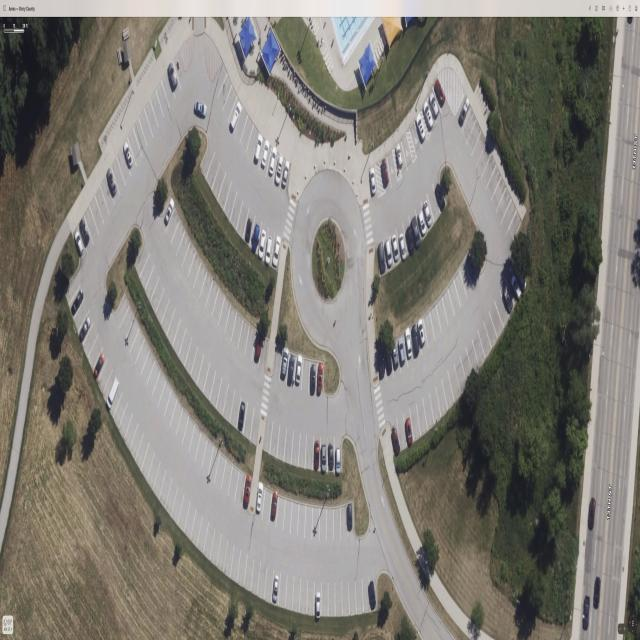Empty: (144, 99, 159, 138), (111, 158, 126, 195), (150, 89, 164, 128), (139, 108, 153, 147), (133, 118, 147, 157), (156, 80, 170, 118), (223, 85, 237, 122), (409, 122, 422, 158), (208, 446, 220, 484), (214, 453, 226, 490), (227, 465, 239, 502), (202, 440, 214, 477), (401, 134, 413, 170), (221, 459, 233, 495), (243, 402, 254, 441), (235, 470, 246, 508), (387, 151, 398, 188), (230, 391, 241, 428), (283, 428, 294, 465), (238, 319, 249, 356), (276, 426, 287, 462), (245, 326, 256, 361), (270, 422, 280, 458), (305, 435, 314, 471), (291, 431, 300, 466), (298, 434, 307, 469)
Parked: (166, 59, 182, 98), (72, 224, 88, 263), (68, 285, 85, 320), (506, 266, 522, 303), (92, 347, 108, 384), (456, 93, 471, 132), (79, 216, 94, 255), (106, 167, 121, 206), (500, 277, 515, 315), (122, 138, 137, 176), (105, 375, 120, 412), (78, 310, 94, 344), (402, 216, 415, 257), (417, 318, 430, 359), (228, 96, 242, 134), (409, 209, 422, 249), (259, 138, 272, 178), (252, 131, 265, 171), (421, 195, 435, 232), (161, 195, 176, 229), (464, 253, 479, 287), (396, 223, 409, 262), (415, 201, 428, 240), (433, 76, 447, 112), (250, 214, 262, 256), (242, 209, 255, 247), (265, 146, 278, 184), (256, 221, 268, 262), (396, 336, 409, 373), (273, 152, 285, 192), (433, 179, 447, 213), (396, 139, 408, 178), (423, 97, 436, 133), (236, 396, 248, 435), (251, 331, 264, 367), (262, 228, 274, 267), (411, 324, 423, 363), (428, 88, 442, 121), (383, 234, 395, 272), (389, 229, 401, 267), (279, 159, 291, 196), (415, 113, 427, 149), (254, 482, 265, 521), (271, 233, 282, 272), (381, 155, 392, 193), (390, 419, 401, 457), (384, 345, 395, 383), (404, 330, 415, 368), (403, 409, 414, 446), (391, 340, 402, 377), (279, 350, 290, 385), (286, 353, 297, 388), (377, 239, 387, 276), (377, 348, 387, 385), (242, 474, 252, 510), (271, 571, 281, 607), (269, 493, 279, 528), (294, 356, 304, 389), (309, 361, 318, 396), (369, 165, 378, 199), (316, 361, 324, 398), (314, 581, 322, 617), (347, 502, 355, 538), (313, 436, 321, 472), (320, 435, 328, 471), (369, 577, 377, 612), (327, 437, 335, 471), (335, 436, 342, 472)
